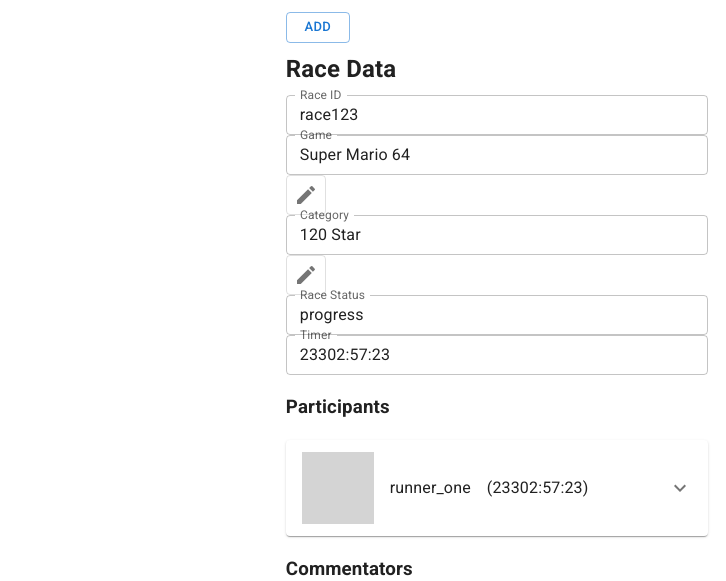
participant text frame › reflects a display-name override made in the editor
(page scrolled)
Step 1. Click the text "runner_one" below "Participants" → (430, 488), box [390, 476, 471, 500]
(page scrolled)
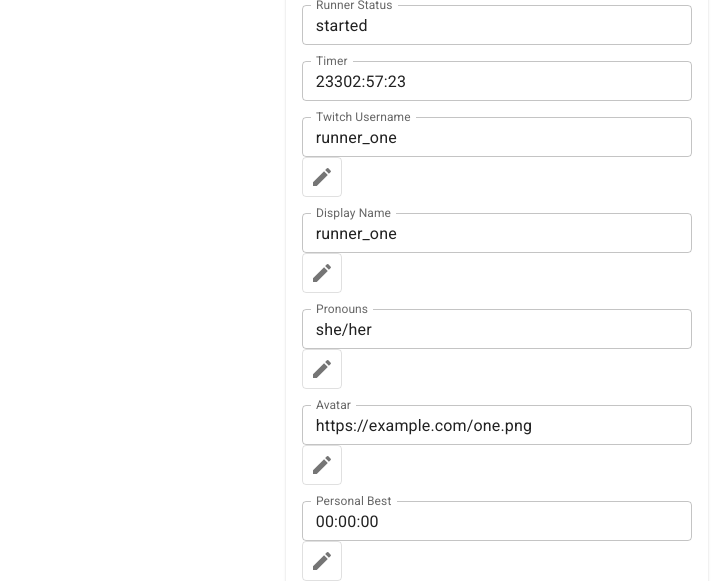
Step 2. Click the button named "Edit Display Name" → (322, 273), box [302, 253, 342, 293]
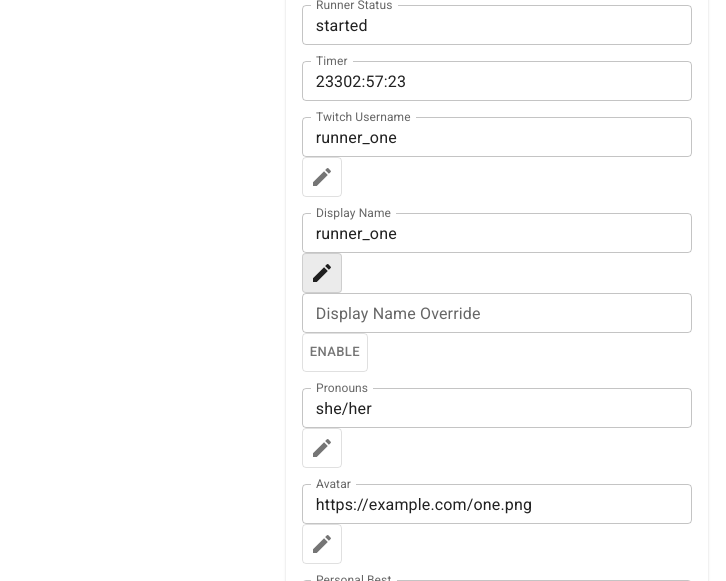
Step 3. Type "Speedy Runner" into the field labelled "Display Name Override" → (497, 313), box [302, 293, 692, 333]
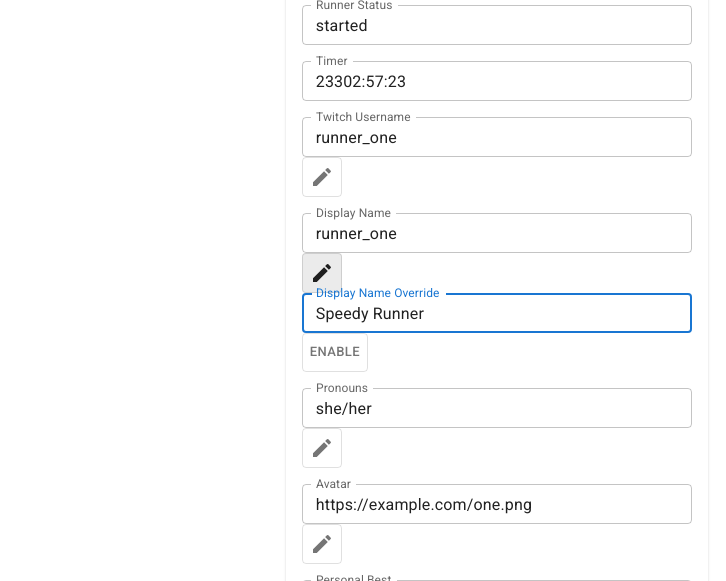
Step 4. Click the button "Enable" → (335, 353), box [302, 333, 368, 372]
(page scrolled)
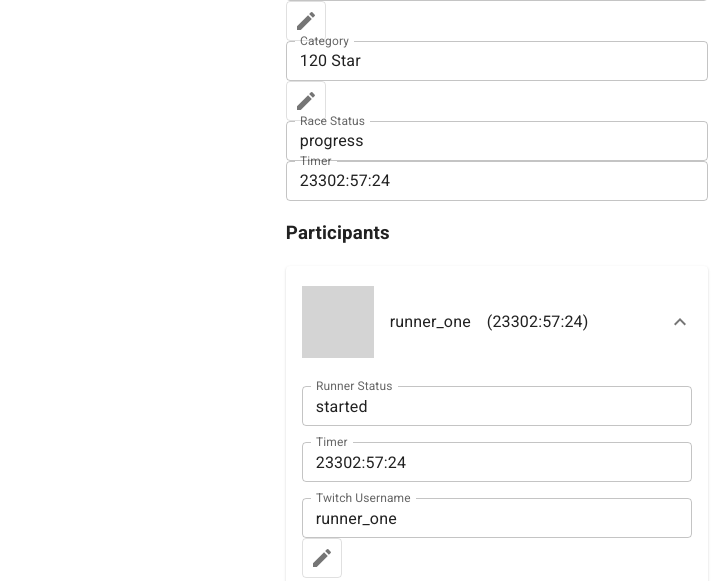
Result: the text "Speedy Runner" is shown at [12, 245, 333, 302]
